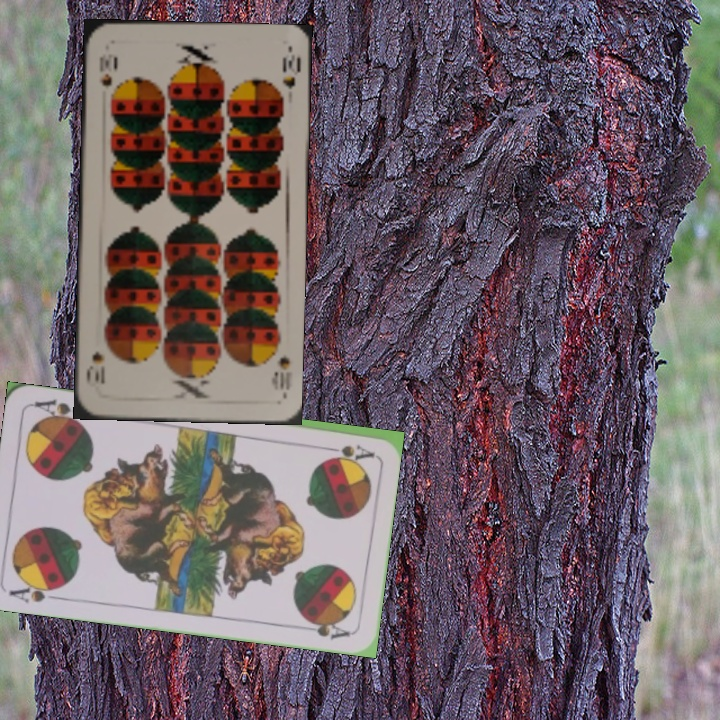S10: (267, 350, 294, 398), (95, 50, 117, 103)
SA: (5, 578, 66, 606), (316, 441, 376, 461)
